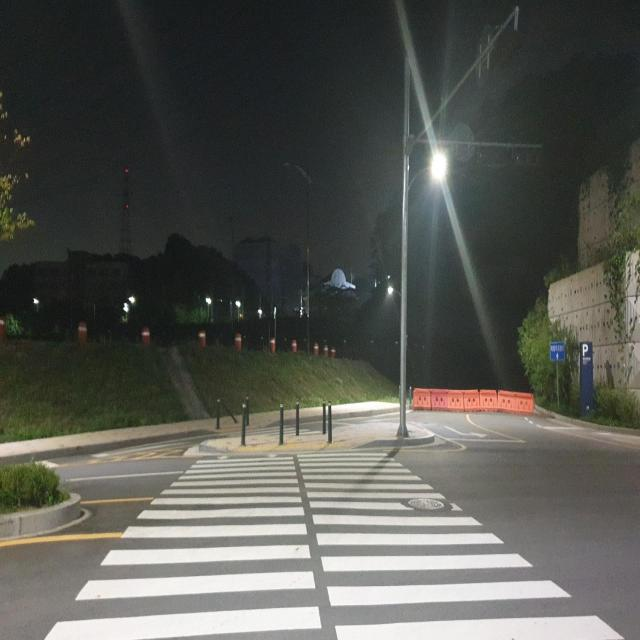횡단보도: (41, 447, 625, 640)
